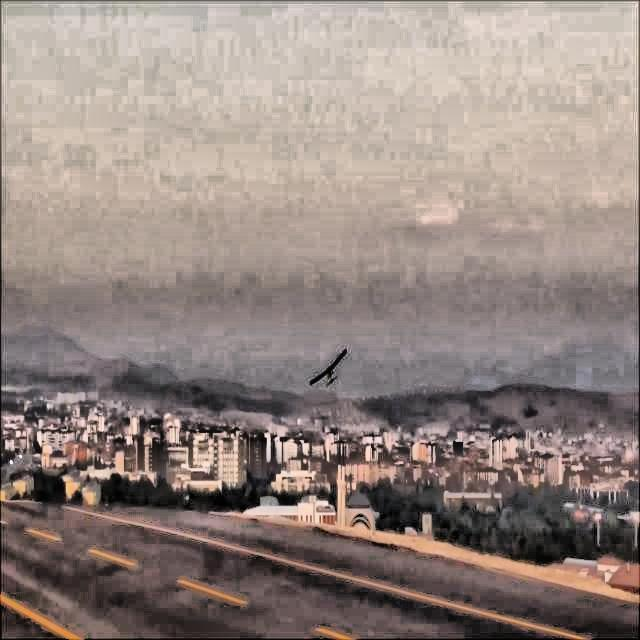iha: (317, 344, 323, 398)
